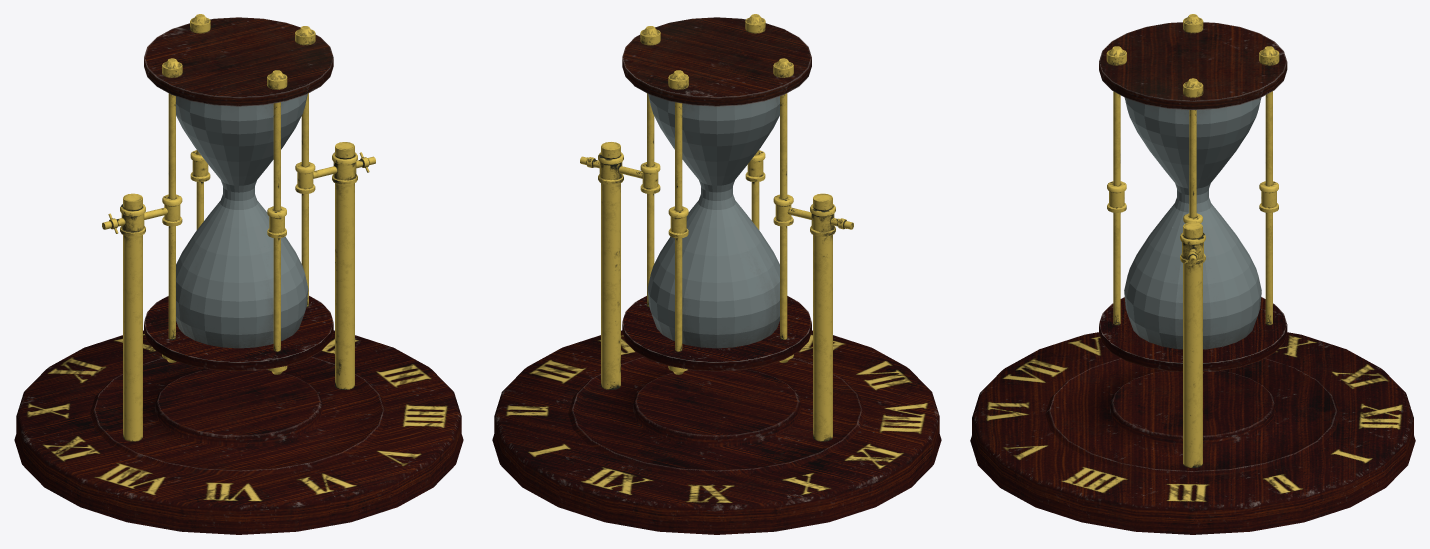
Rendered from Sablier.fbx.
3 renders of one model, left to right at view 1: azimuth 30°, elevation 25°; view 2: azimuth 150°, elevation 25°; view 3: azimuth 270°, elevation 25°, orthographic.
Visible parts, largest first — view 1: Base01, Base03, Sablier06, Sablier01, Base02, Sablier03, Base04, Base07, Base05, Base06; view 2: Base01, Base03, Sablier01, Sablier06, Base02, Sablier04, Base06, Base07, Base05, Base04, Sablier05; view 3: Base01, Base03, Sablier01, Base02, Sablier05, Base04, Base06, Sablier06, Base05, Sablier02, Sablier03, Sablier04.
Boxes of the visible parts, x1,y1,x2,y2 form: Base01: (14, 142, 463, 534); Base03: (144, 17, 333, 106); Sablier06: (177, 116, 273, 293); Sablier01: (176, 236, 308, 348); Base02: (144, 296, 333, 371); Sablier03: (177, 94, 307, 166); Base04: (267, 70, 287, 374); Base07: (162, 58, 182, 362); Base05: (295, 26, 315, 307); Base06: (190, 14, 210, 229); Base01: (492, 142, 941, 534); Base03: (622, 17, 811, 106); Sablier01: (647, 236, 779, 348); Sablier06: (682, 124, 777, 290); Base02: (622, 296, 811, 371); Sablier04: (648, 94, 779, 155); Base06: (668, 70, 688, 374); Base07: (773, 58, 793, 362); Base05: (640, 26, 660, 307); Base04: (745, 14, 765, 229); Sablier05: (649, 100, 710, 225); Base01: (970, 222, 1415, 534); Base03: (1099, 22, 1287, 109); Sablier01: (1124, 241, 1261, 349); Base02: (1099, 297, 1287, 372); Sablier05: (1151, 117, 1245, 251); Base04: (1106, 46, 1126, 325); Base06: (1259, 46, 1279, 325); Sablier06: (1135, 152, 1247, 257); Base05: (1183, 78, 1203, 373); Sablier02: (1142, 103, 1228, 132); Sablier03: (1124, 98, 1168, 151); Sablier04: (1221, 98, 1261, 136).
Size of the model in its own units: 45.52 by 44.28 by 45.52.
Materials: 3 (3 with a texture image).
